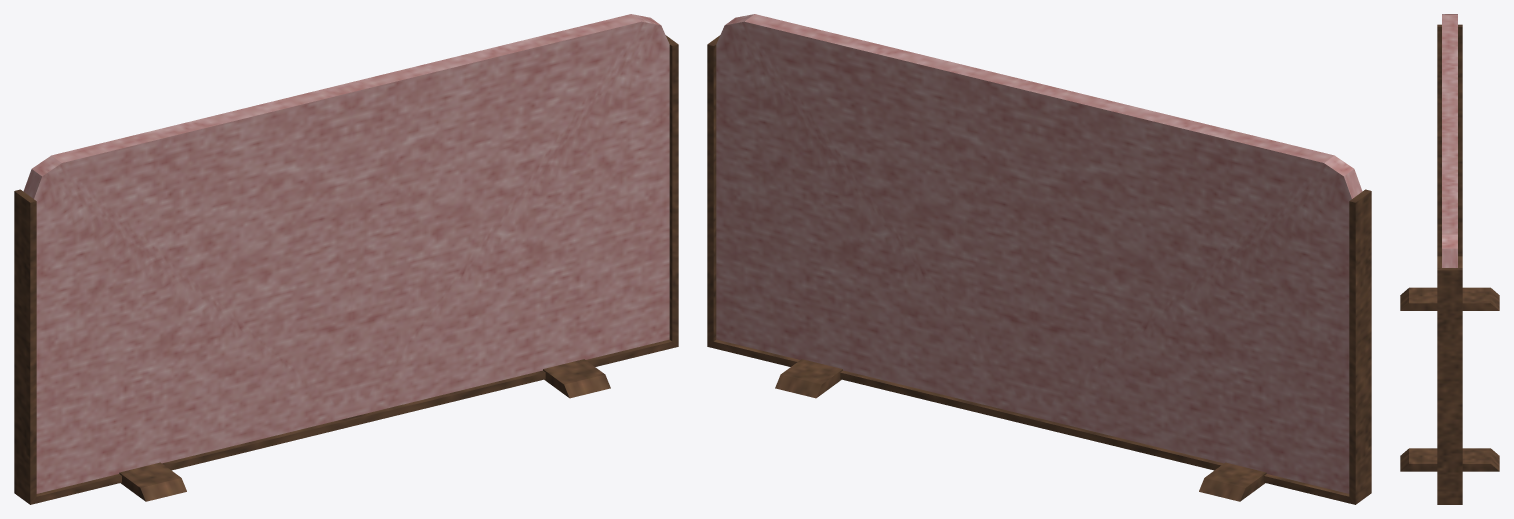
File: divider_wood_red_low.fbx
3 renders of one model, left to right at view 1: azimuth 30°, elevation 25°; view 2: azimuth 150°, elevation 25°; view 3: azimuth 270°, elevation 25°, orthographic. The views are drawn at different scales.
Parts seen in each view (by area): view 1: divider_wood_red_low; view 2: divider_wood_red_low; view 3: divider_wood_red_low.
Part boxes in pixels (x1,y1,x2,y2): divider_wood_red_low: [14, 14, 678, 504]; divider_wood_red_low: [707, 14, 1371, 504]; divider_wood_red_low: [1400, 14, 1499, 504].
Bounding box in the file's own units: 306 × 150 × 52.3.
Materials: 1 (1 with a texture image).
